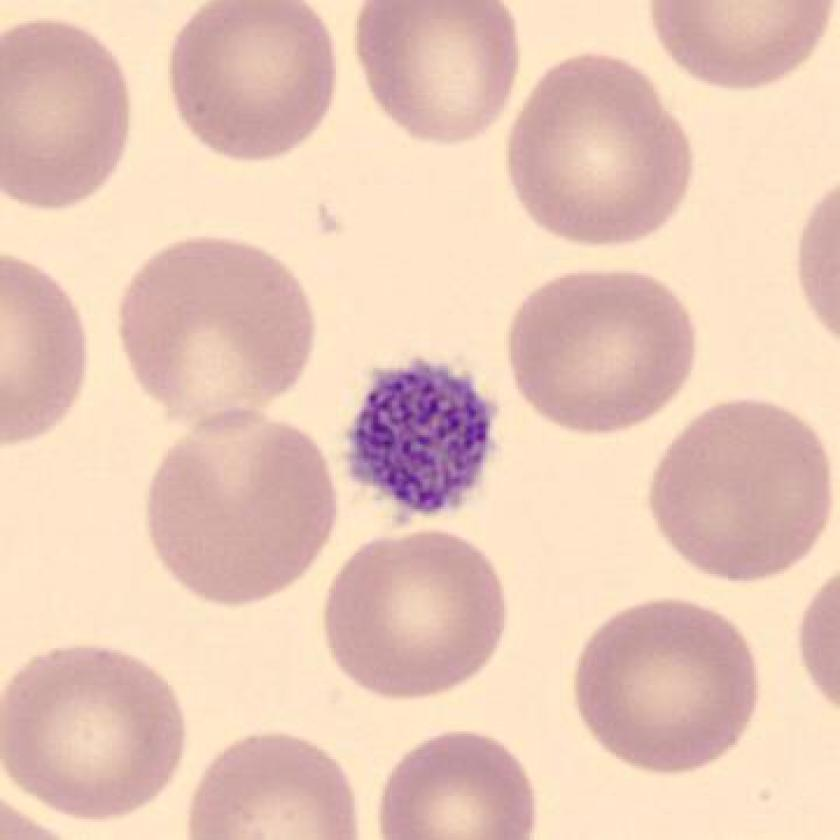platelets: (337, 353, 507, 529)
